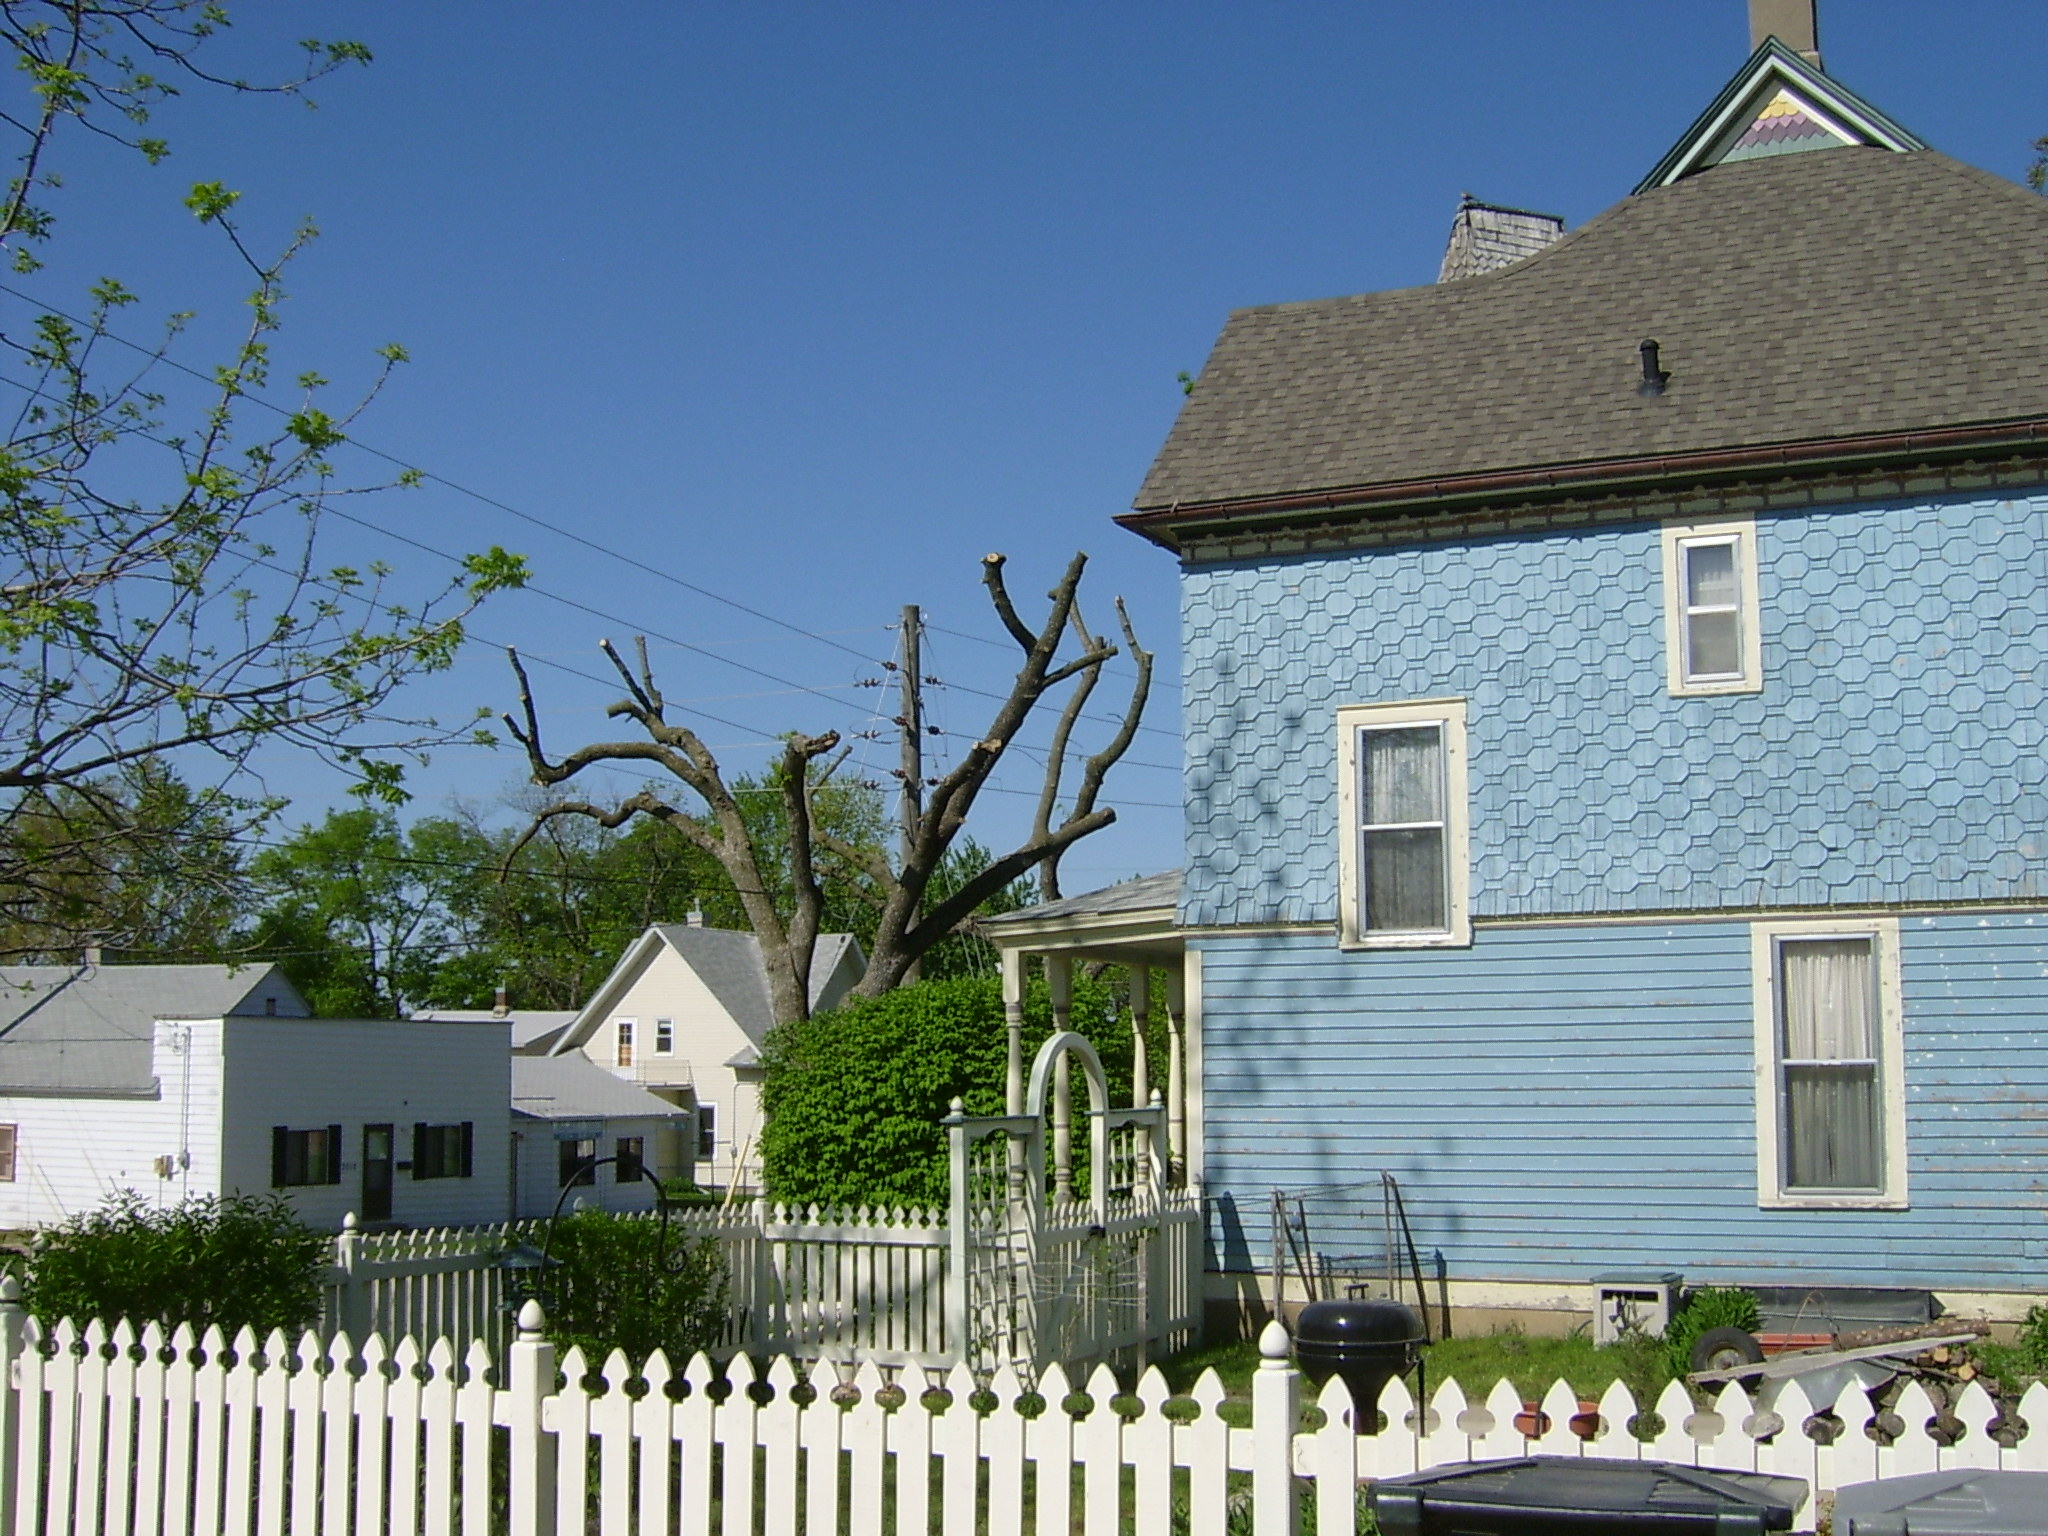bush: (739, 983, 1161, 1204)
tree: (474, 539, 1180, 1136)
